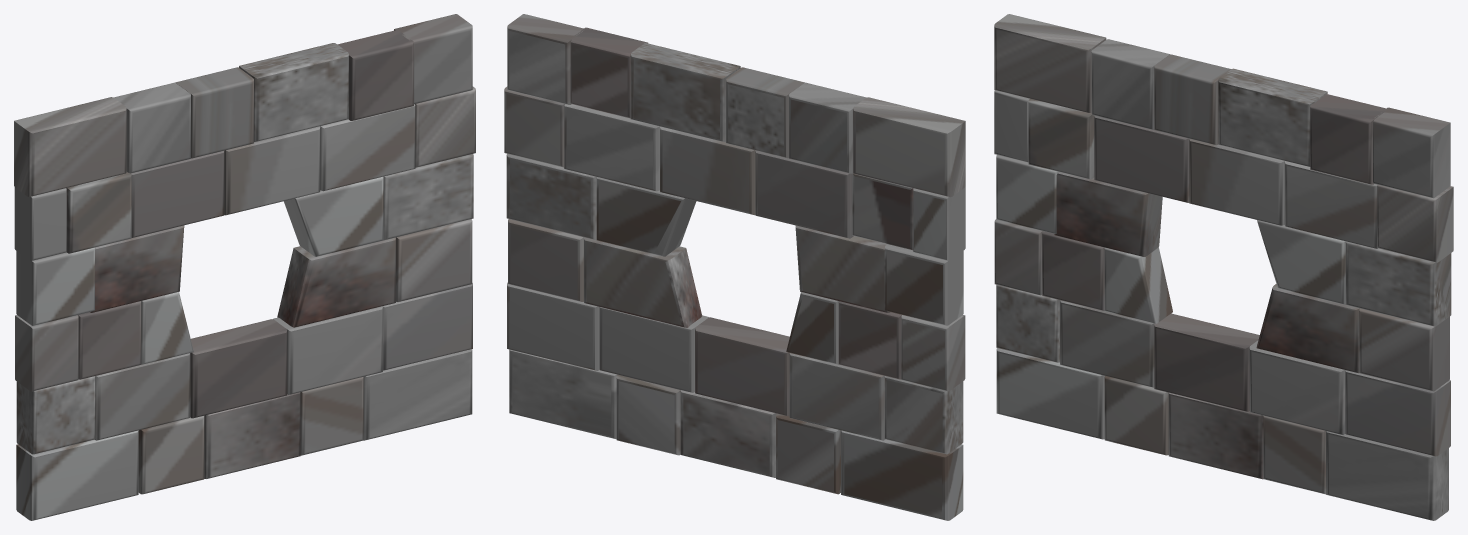
The model's file is MUR8FENETRE.fbx.
3 views of the same model, side by side, from view 1: azimuth 30°, elevation 25°; view 2: azimuth 150°, elevation 25°; view 3: azimuth 330°, elevation 25° (orthographic).
Parts seen in each view (by area): view 1: pCube519; view 2: pCube519; view 3: pCube519.
Boxes of the visible parts, bbox=[...] form: pCube519: bbox=[14, 14, 475, 520]; pCube519: bbox=[504, 14, 965, 520]; pCube519: bbox=[994, 14, 1453, 520].
Bounding box in the file's own units: 50.44 × 42.14 × 4.08.
